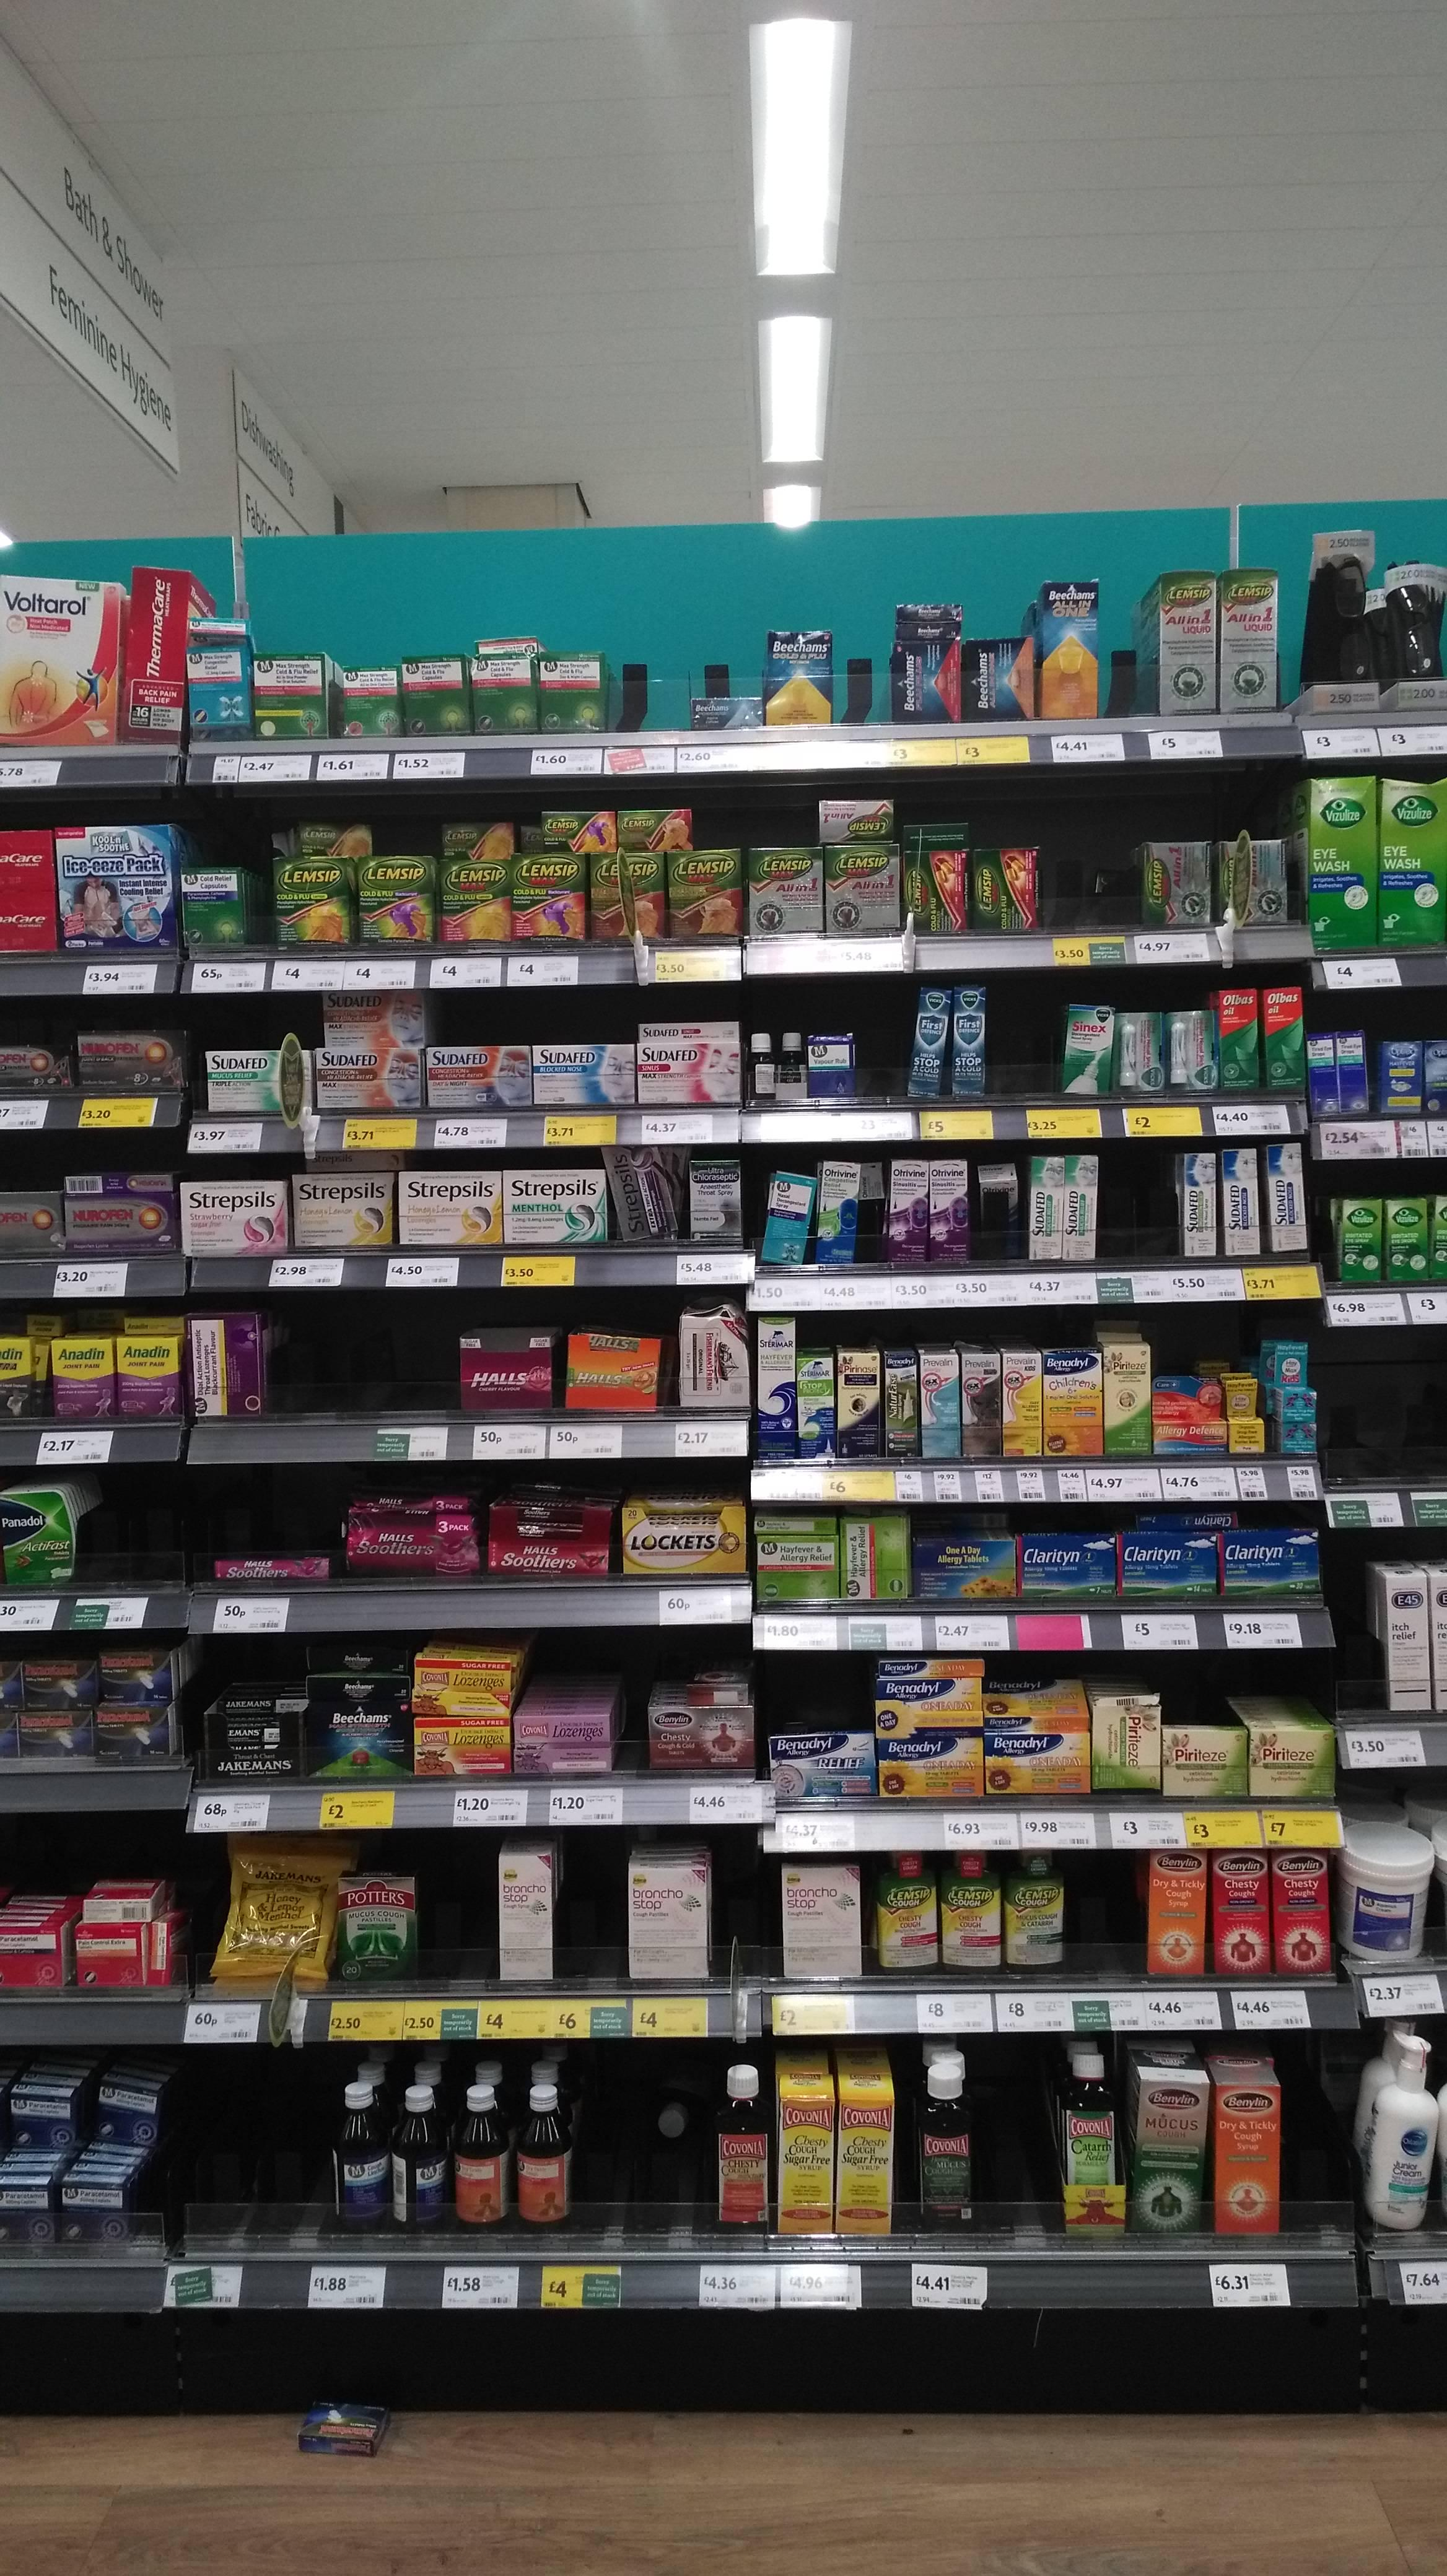empty: (195, 2065, 325, 2243), (281, 1302, 453, 1408), (1339, 1336, 1443, 1479), (973, 2049, 1053, 2217), (584, 2051, 655, 2224), (90, 1483, 200, 1587), (1286, 2049, 1346, 2220), (425, 1840, 490, 1985), (1038, 832, 1141, 924), (563, 1845, 616, 1987), (1076, 1858, 1143, 1967), (1107, 1154, 1173, 1265), (987, 989, 1047, 1095), (610, 646, 681, 729), (851, 1000, 906, 1106), (835, 637, 886, 727), (1097, 639, 1150, 722)
misalignment: (619, 1674, 764, 1778), (676, 1293, 750, 1410), (600, 1141, 683, 1244), (180, 860, 276, 945), (814, 1159, 886, 1261)
